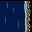Interaction: (22, 0, 32, 32)
Slow: (0, 0, 23, 32)
